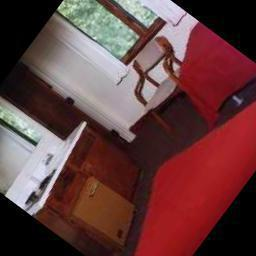Lavaplatos: (35, 131, 76, 178)
